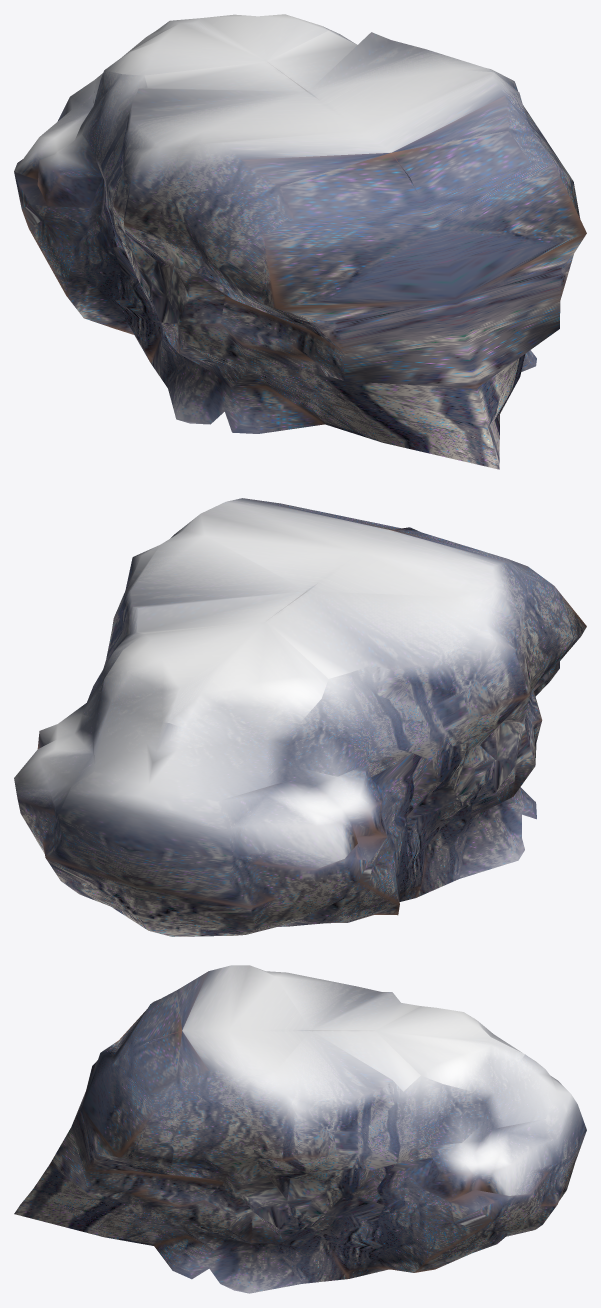
File: ykp_kallio_mirrored.glb
3 views of the same model, one above another, from view 1: azimuth 30°, elevation 25°; view 2: azimuth 150°, elevation 25°; view 3: azimuth 270°, elevation 25° (orthographic). The views are drawn at different scales.
Visible parts, largest first — view 1: ykp_mustavuorikallio-mir-col; view 2: ykp_mustavuorikallio-mir-col; view 3: ykp_mustavuorikallio-mir-col.
Part boxes in pixels (left/top/right/bottom): ykp_mustavuorikallio-mir-col: left=14, top=14, right=586, bottom=469; ykp_mustavuorikallio-mir-col: left=14, top=498, right=586, bottom=936; ykp_mustavuorikallio-mir-col: left=14, top=965, right=586, bottom=1293.
Size of the model in its own units: 11.22 by 7.29 by 17.74.
1 material, 1 textured.
